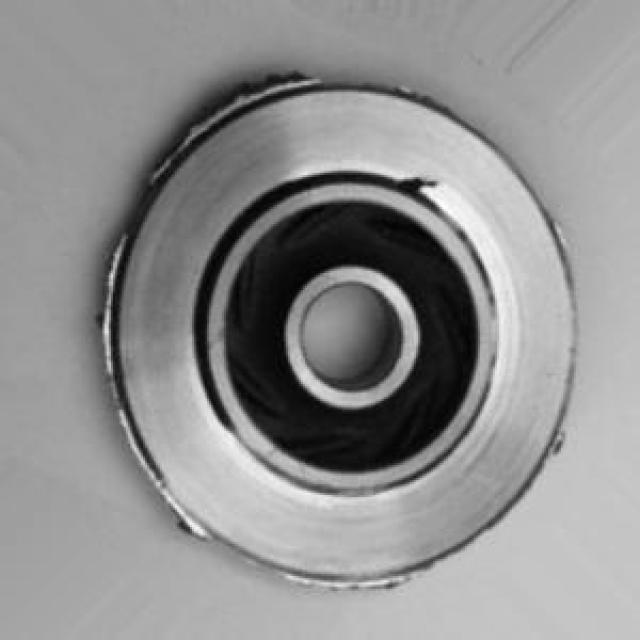Defect: (396, 162, 446, 209)
